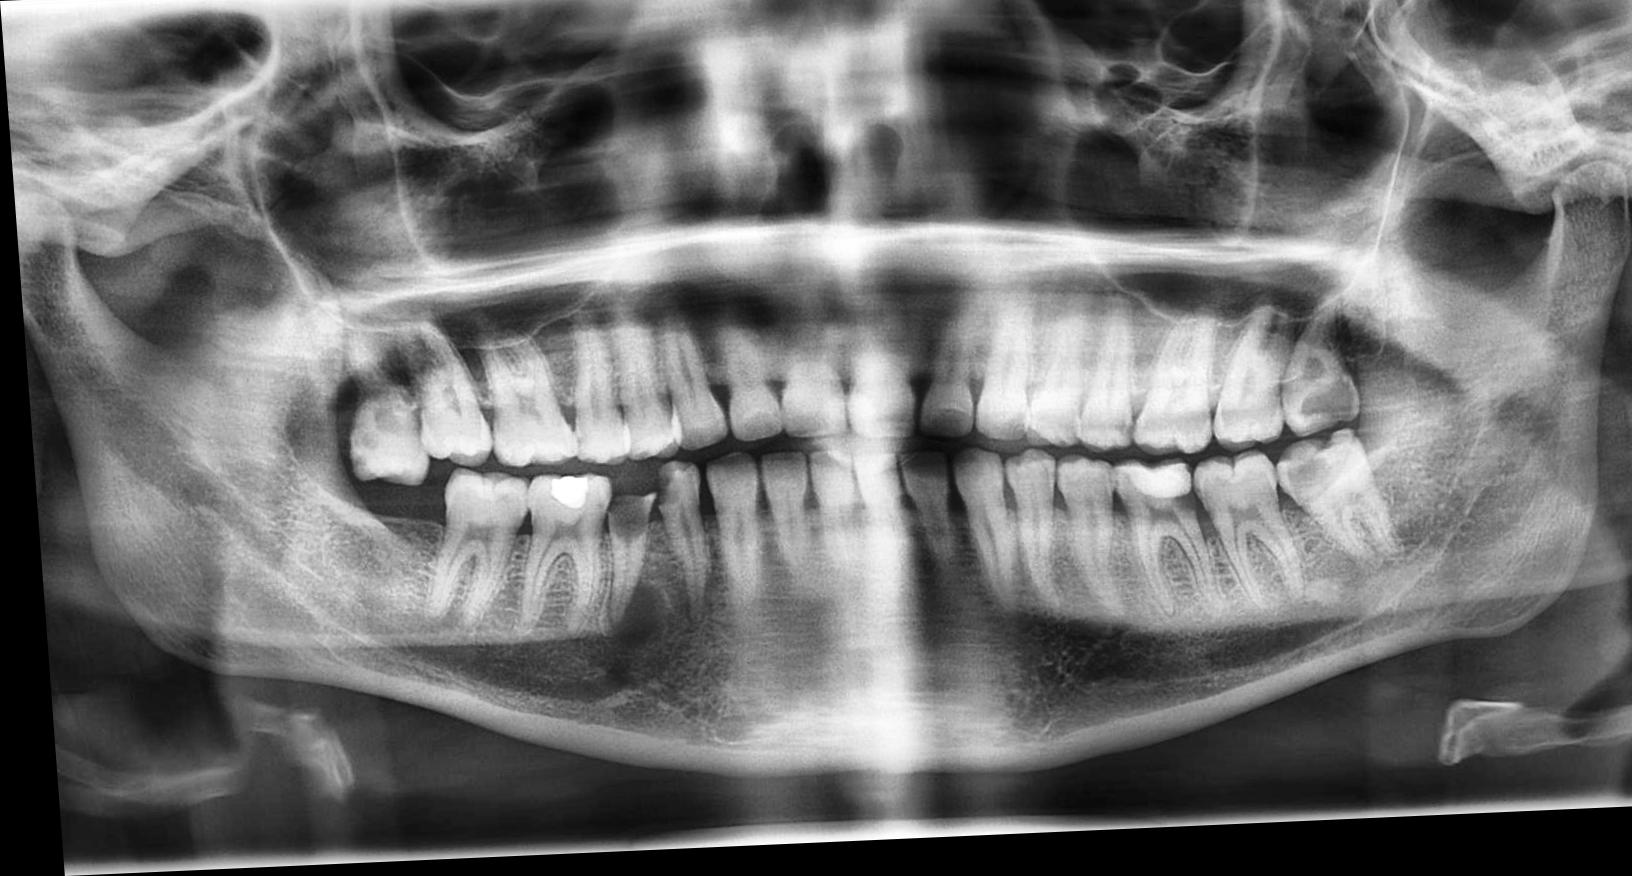radikuler: (589, 583, 661, 658)
